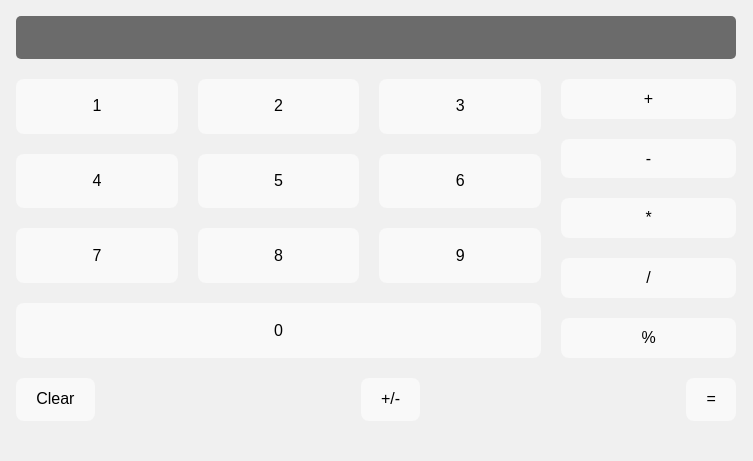
Test: Calculator component › displays multiple numbers when buttons are clicked
Step 1. Click the button "1" → (97, 106), box x1=16 y1=79 x2=178 y2=134
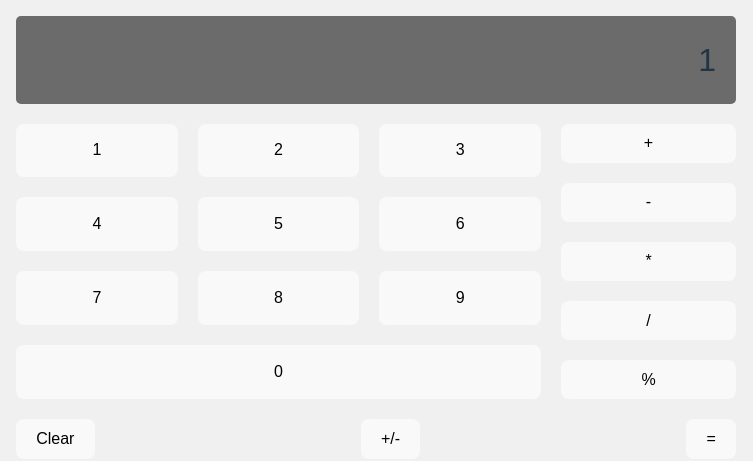
Step 2. Click the button "2" → (279, 150), box x1=198 y1=124 x2=359 y2=178
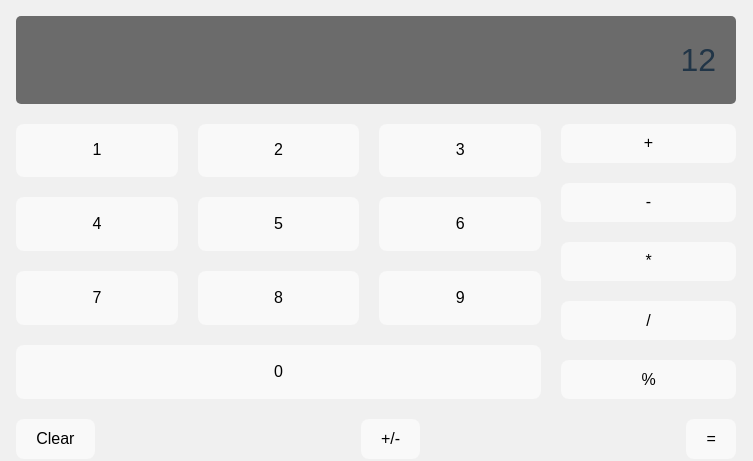
Check: the text with test id "result" reads "12", box x1=680 y1=42 x2=716 y2=78
